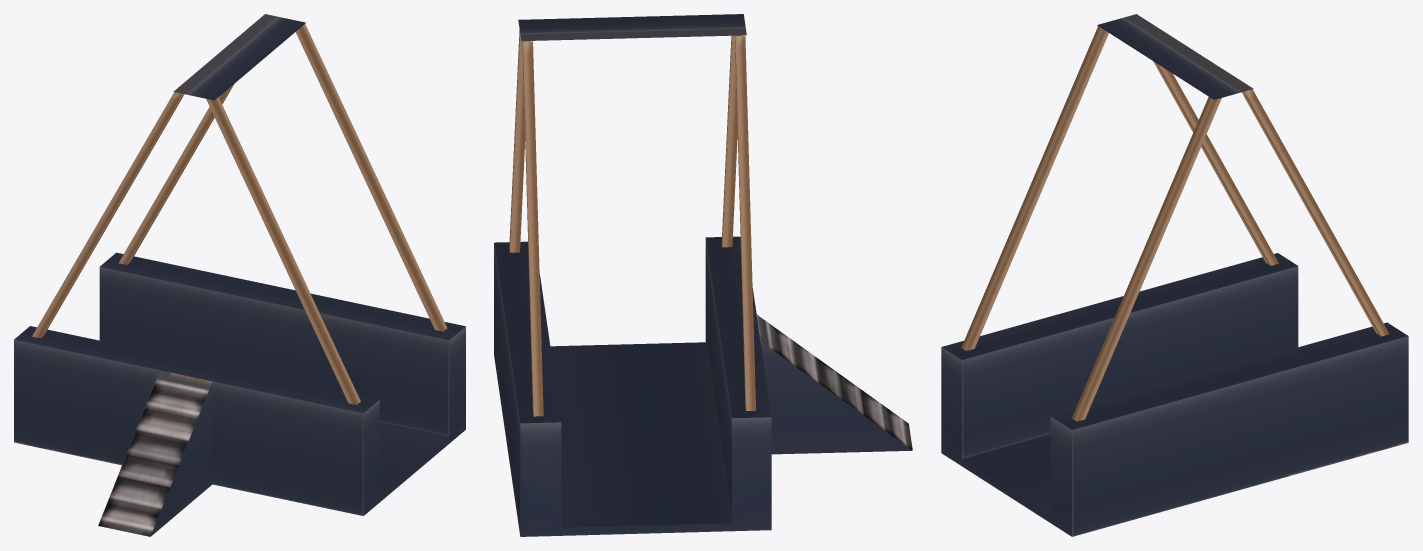
Rendered from viking.glb.
3 renders of one model, left to right at view 1: azimuth 30°, elevation 25°; view 2: azimuth 150°, elevation 25°; view 3: azimuth 270°, elevation 25°, orthographic. The views are drawn at different scales.
Parts seen in each view (by area): view 1: viking; view 2: viking; view 3: viking.
Boxes of the visible parts, <box> form: viking: <box>14,14,465,536</box>; viking: <box>494,14,912,536</box>; viking: <box>941,14,1408,536</box>.
Size of the model in its own units: 1231 by 1189 by 1286.
1 material, 1 textured.
